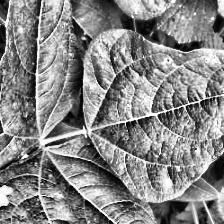Bean Rust: (84, 24, 224, 204), (0, 133, 184, 224), (0, 0, 79, 182)
